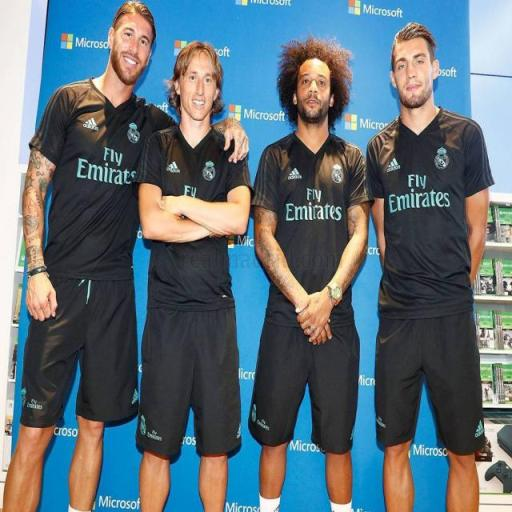Adidas: (82, 115, 100, 132), (386, 156, 402, 174), (166, 160, 182, 174), (287, 166, 301, 182)
Emirates: (74, 146, 140, 187), (388, 174, 451, 216), (286, 186, 344, 222)
